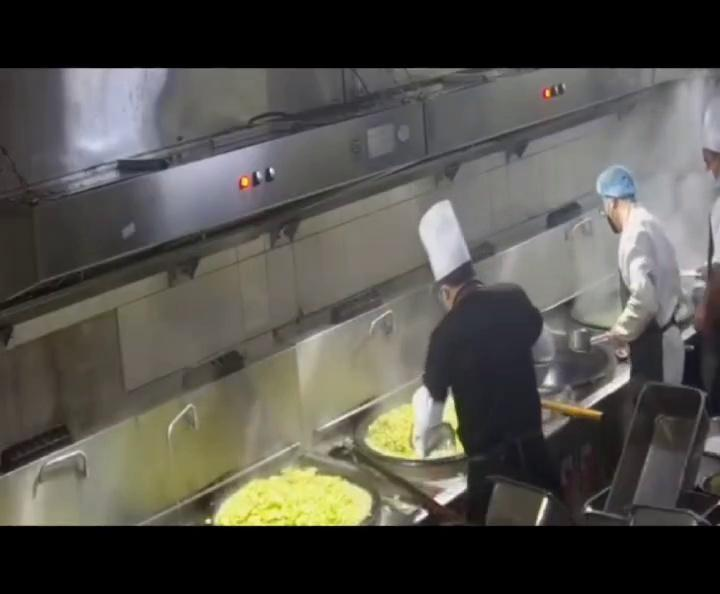gloves: (596, 168, 638, 201)
